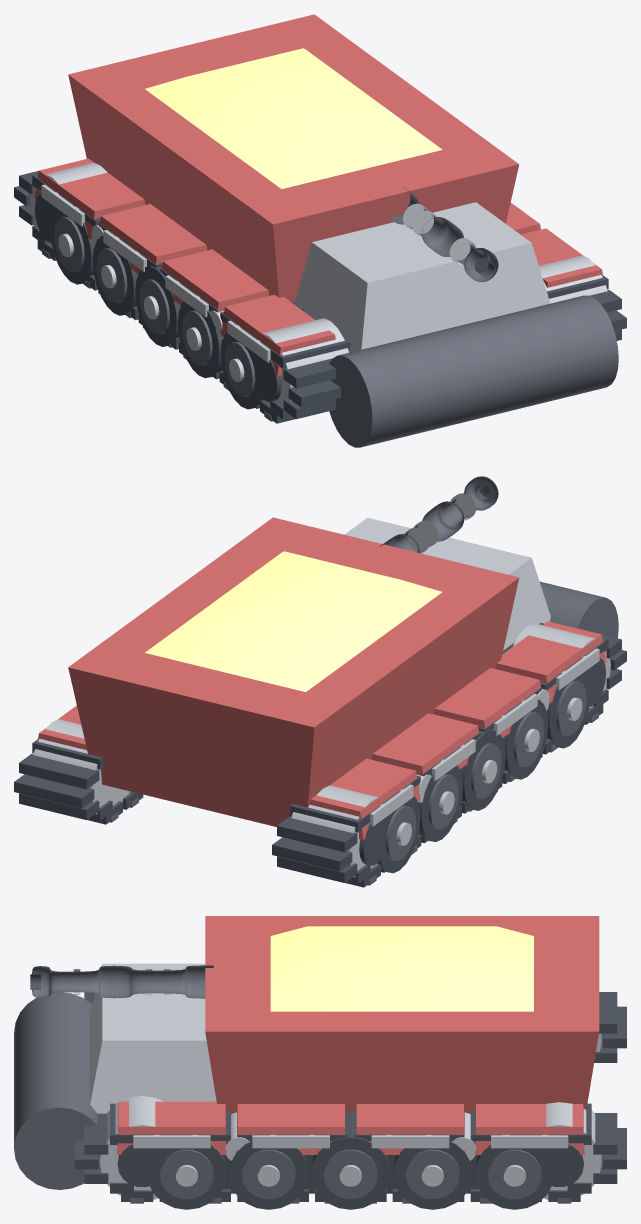
The model's file is harv.glb.
3 renders of one model, top to bottom at view 1: azimuth 30°, elevation 25°; view 2: azimuth 150°, elevation 25°; view 3: azimuth 270°, elevation 25°, orthographic. The views are drawn at different scales.
Visible parts, largest first — view 1: harv War Miner; view 2: harv War Miner; view 3: harv War Miner.
Boxes of the visible parts, bbox=[...] form: harv War Miner: bbox=[14, 14, 626, 447]; harv War Miner: bbox=[14, 476, 626, 887]; harv War Miner: bbox=[14, 916, 626, 1209].
Size of the model in its own units: 2.22 by 1.15 by 3.58.
